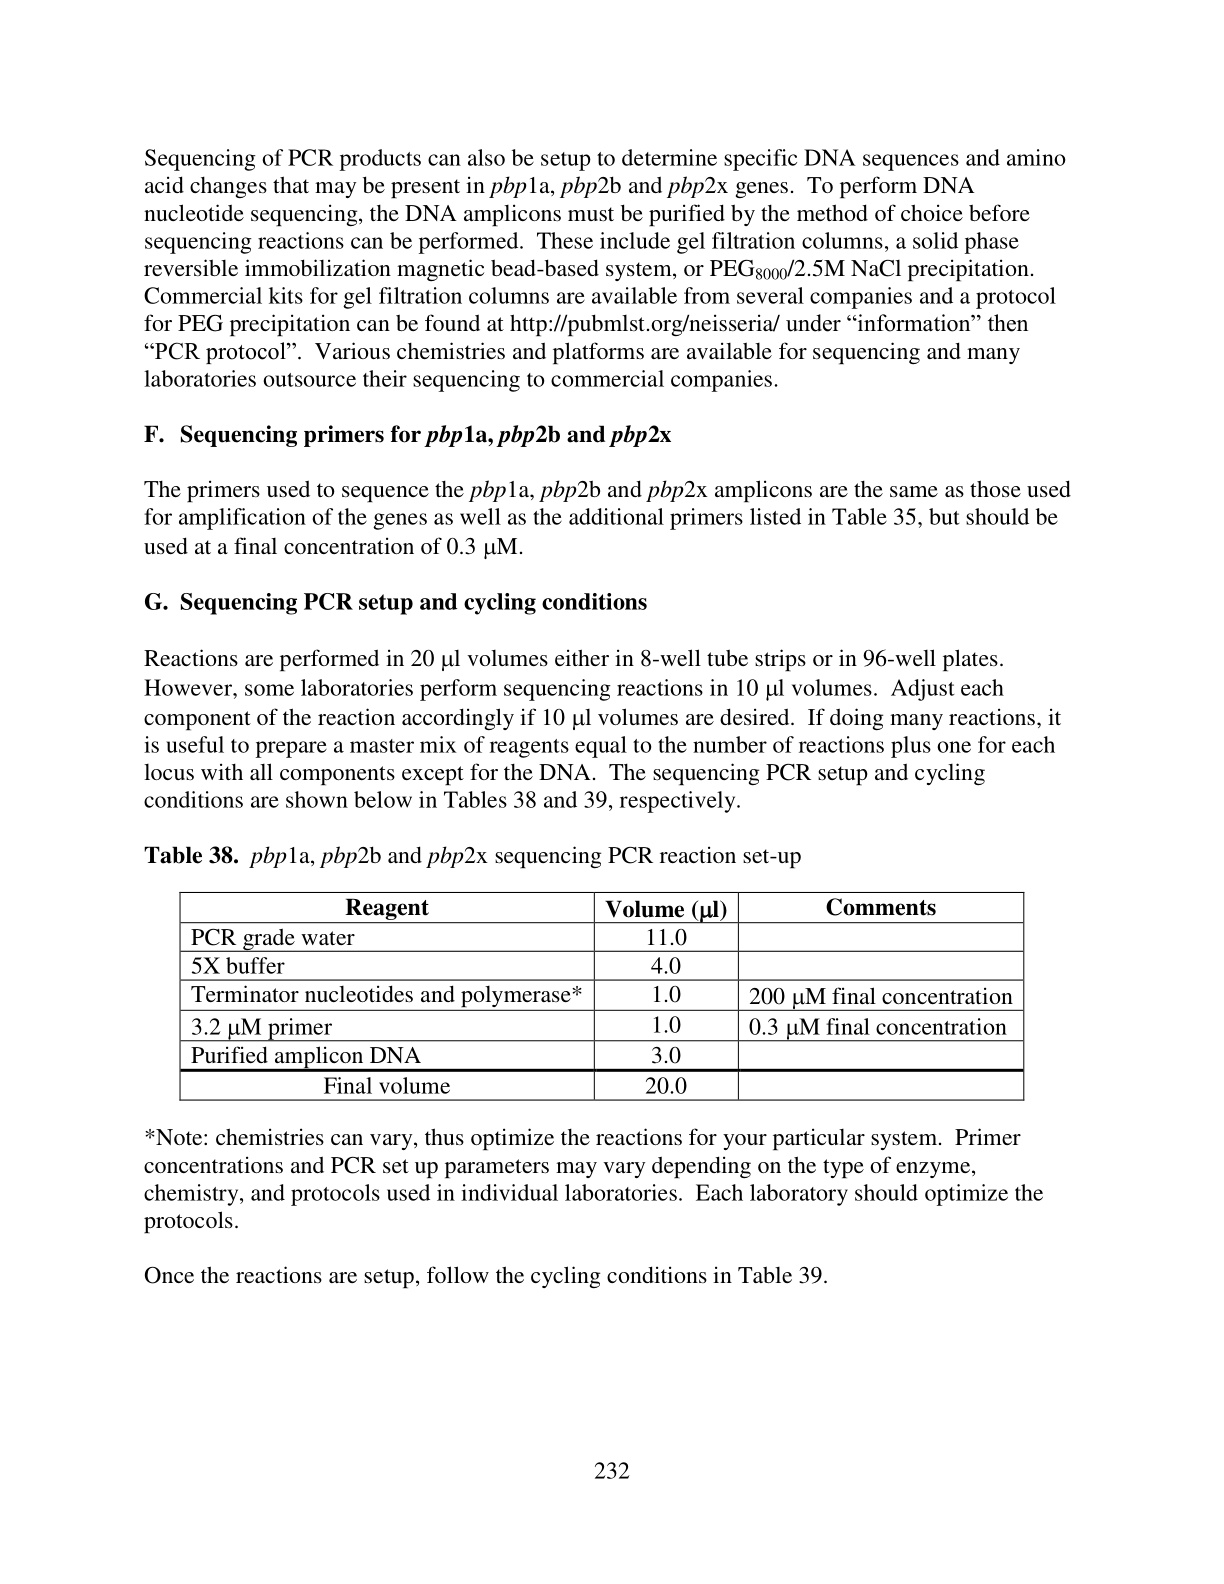full_lined: (177, 890, 1026, 1102)
